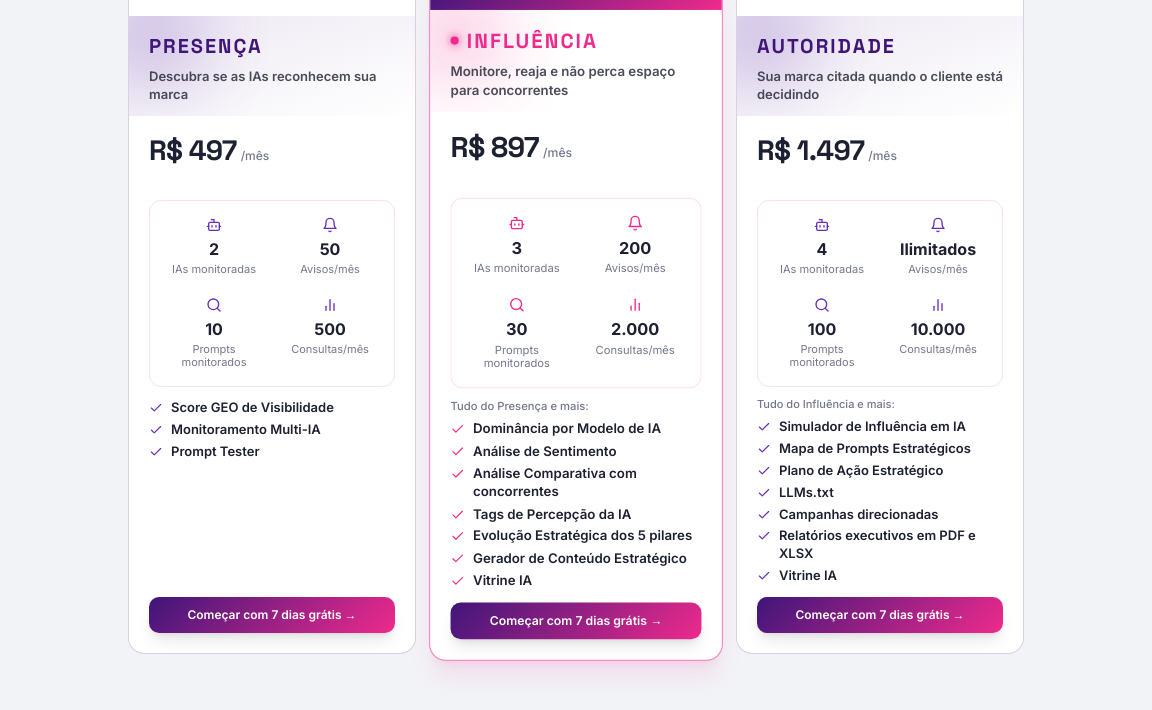
it: P55 — escolha e confirmação › trial=true, annual=false: explica cobrança e compromisso
(page scrolled)
Click the button "Começar com 7 dias grátis →" below "Prompt Tester" at (272, 615), box x1=149 y1=597 x2=395 y2=633
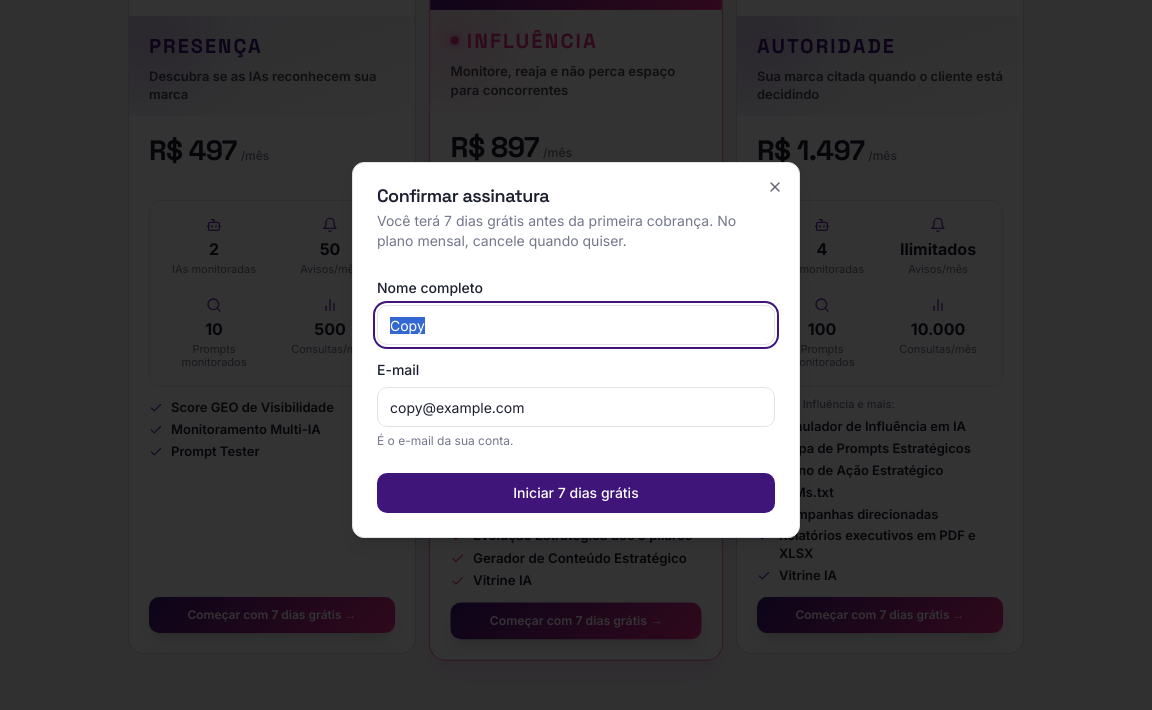
Expected: the text "Você terá 7 dias grátis antes da primeira cobrança. No plano mensal, cancele quando quiser." is shown, x1=377 y1=212 x2=736 y2=249
